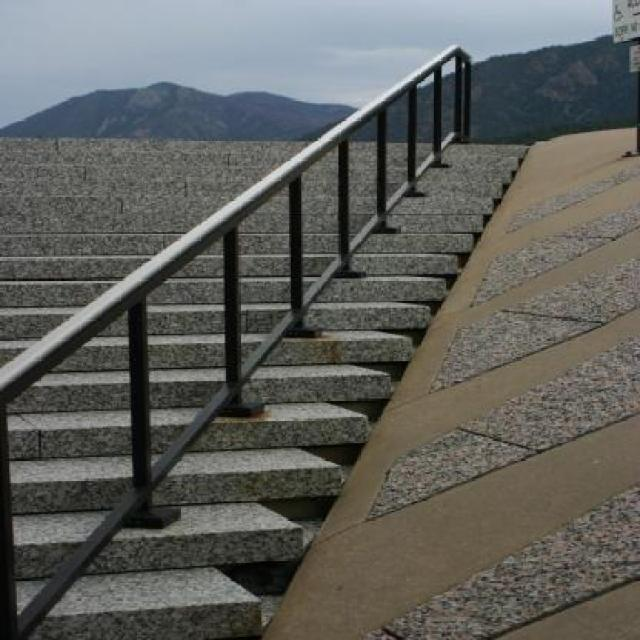stair: (0, 137, 529, 640)
